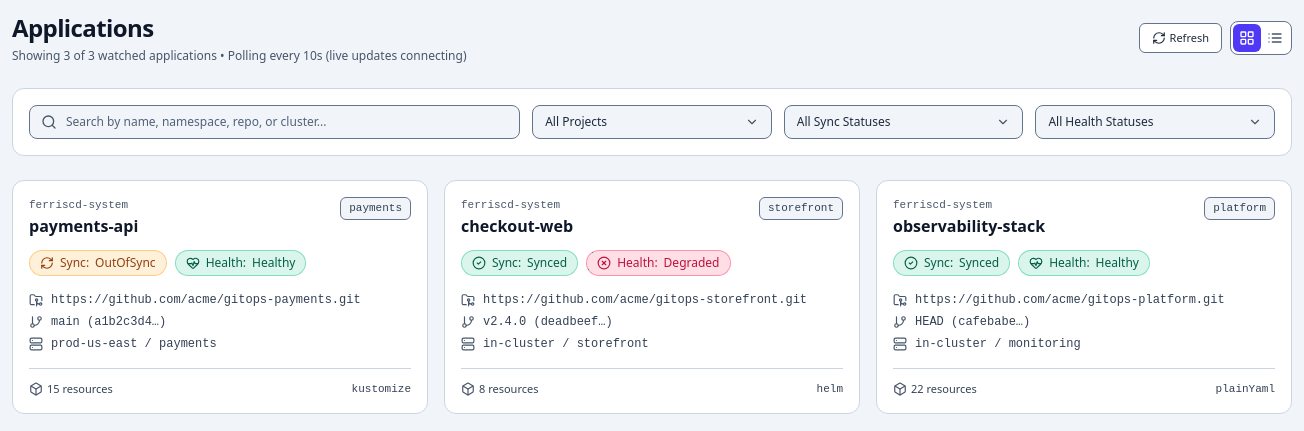
Test case: ApplicationsPage (T16.2 & Trap Guard T16.2) › supports switching between Grid View and Table View
Expected: the element with test id "applications-grid" is shown, [12,180,1292,414]
Step 1. Click the button named "Table view" → (1275, 38), box [1261,24,1289,52]
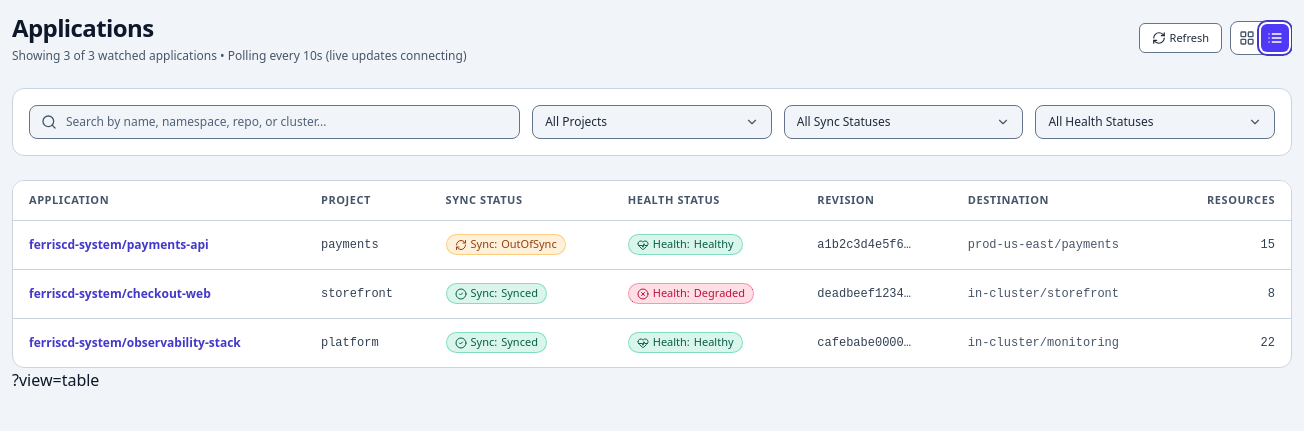
Result: the element with test id "applications-table" is shown at [12,180,1292,368]
